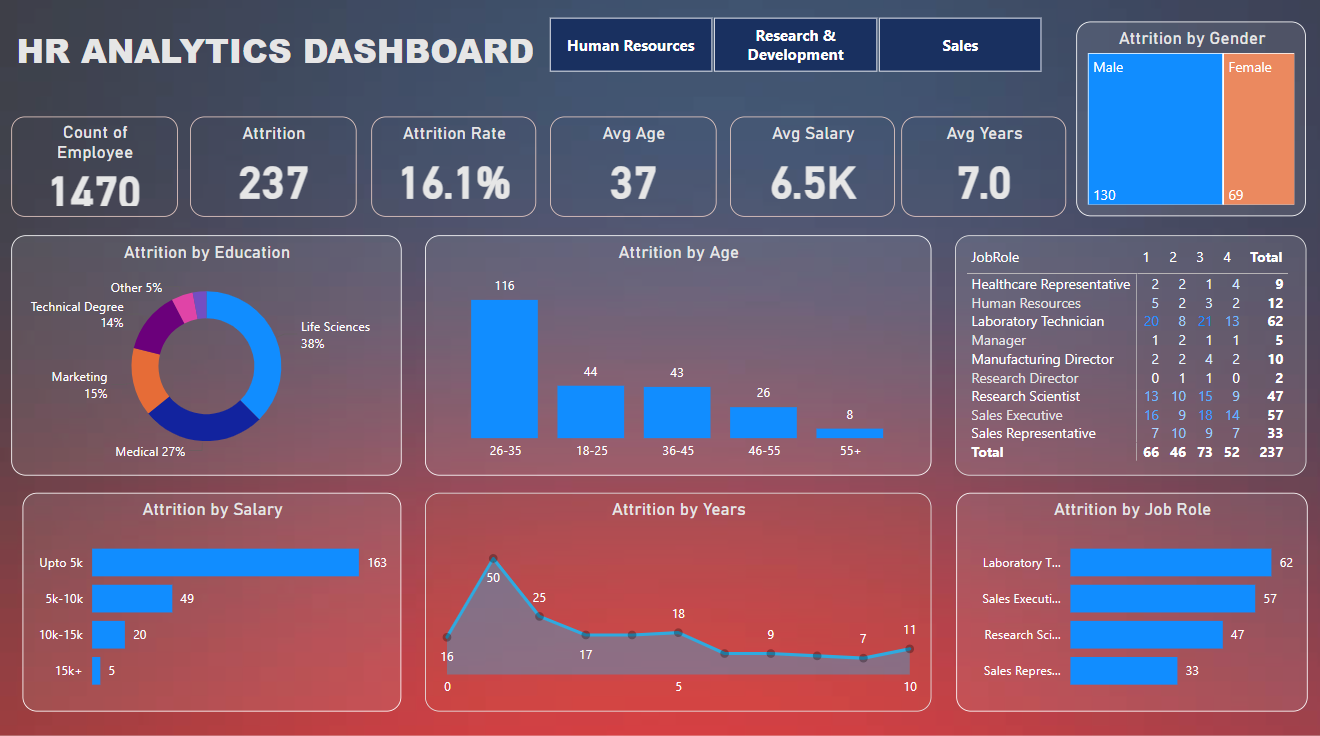

The page's visual inventory and layout, read from the dashboard file:
{"tool":"powerbi","page":{"name":"Page 1","canvas":[1280,720],"ordinal":0},"visuals":[{"type":"card","title":"Count of Employee","fields":{"Values":["CountNonNull(HR_Analytics.EmpID)"]},"box":[10.9,118.2,160.5,96.5],"z":0},{"type":"card","title":"Attrition Rate","fields":{"Values":["HR_Analytics.AttritionRate"]},"box":[358.3,118.2,159.3,96.5],"z":1000},{"type":"card","title":"Attrition","fields":{"Values":["Sum(HR_Analytics.AttritionCount)"]},"box":[183.4,118.2,160.5,96.5],"z":2000},{"type":"card","title":"Avg Age","fields":{"Values":["Avg(HR_Analytics.Age)"]},"box":[530.8,118.2,160.5,96.5],"z":3000},{"type":"card","title":"Avg Salary","fields":{"Values":["Avg(HR_Analytics.MonthlyIncome)"]},"box":[704.6,118.2,159.3,96.5],"z":4000},{"type":"card","title":"Avg Years","fields":{"Values":["Avg(HR_Analytics.YearsAtCompany)"]},"box":[869.8,118.2,159.3,96.5],"z":5000},{"type":"donutChart","title":"Attrition by Education","fields":{"Category":["HR_Analytics.EducationField"],"Y":["Sum(HR_Analytics.AttritionCount)"]},"box":[10.9,232.8,376.4,231.6],"z":6000},{"type":"textbox","box":[10.9,26.5,520,55.5],"z":7000},{"type":"columnChart","title":"Attrition by Age ","fields":{"Y":["Sum(HR_Analytics.AttritionCount)"],"Category":["HR_Analytics.AgeGroup"]},"box":[410.2,232.8,488.6,231.6],"z":8000},{"type":"pivotTable","fields":{"Rows":["HR_Analytics.JobRole"],"Columns":["HR_Analytics.JobSatisfaction"],"Values":["Sum(HR_Analytics.AttritionCount)"]},"box":[921.7,232.8,339,231.6],"z":9000},{"type":"barChart","title":"Attrition by Salary","fields":{"Category":["HR_Analytics.SalarySlab"],"Y":["Sum(HR_Analytics.AttritionCount)"]},"box":[21.7,481.4,365.6,211.1],"z":10000},{"type":"barChart","title":"Attrition by Job Role","fields":{"Y":["Sum(HR_Analytics.AttritionCount)"],"Category":["HR_Analytics.JobRole"]},"box":[922.9,481.4,339,211.1],"z":11000},{"type":"areaChart","title":"Attrition by Years","fields":{"Category":["HR_Analytics.YearsAtCompany"],"Y":["Sum(HR_Analytics.AttritionCount)"]},"box":[410.2,481.4,488.6,211.1],"z":12000},{"type":"treemap","title":"Attrition by Gender","fields":{"Group":["HR_Analytics.Gender"],"Values":["Sum(HR_Analytics.AttritionCount)"]},"box":[1038.7,26.5,241.3,188.2],"z":13000},{"type":"slicer","fields":{"Values":["HR_Analytics.Department"]},"box":[503.7,15.4,525.1,66.3],"z":14000}]}

Visuals, with their boxes in screenshot pixels (x1, y1, x2, y2), scaled from the page's 1280x720 canvas onto the 1320x736 screenshot:
"Count of Employee" card: (x1=11, y1=121, x2=177, y2=219)
"Attrition Rate" card: (x1=369, y1=121, x2=534, y2=219)
"Attrition" card: (x1=189, y1=121, x2=355, y2=219)
"Avg Age" card: (x1=547, y1=121, x2=713, y2=219)
"Avg Salary" card: (x1=727, y1=121, x2=891, y2=219)
"Avg Years" card: (x1=897, y1=121, x2=1061, y2=219)
"Attrition by Education" donutChart: (x1=11, y1=238, x2=399, y2=475)
textbox: (x1=11, y1=27, x2=547, y2=84)
"Attrition by Age " columnChart: (x1=423, y1=238, x2=927, y2=475)
pivotTable - HR_Analytics.JobRole x HR_Analytics.JobSatisfaction: (x1=951, y1=238, x2=1300, y2=475)
"Attrition by Salary" barChart: (x1=22, y1=492, x2=399, y2=708)
"Attrition by Job Role" barChart: (x1=952, y1=492, x2=1301, y2=708)
"Attrition by Years" areaChart: (x1=423, y1=492, x2=927, y2=708)
"Attrition by Gender" treemap: (x1=1071, y1=27, x2=1319, y2=219)
slicer - HR_Analytics.Department: (x1=519, y1=16, x2=1061, y2=84)
